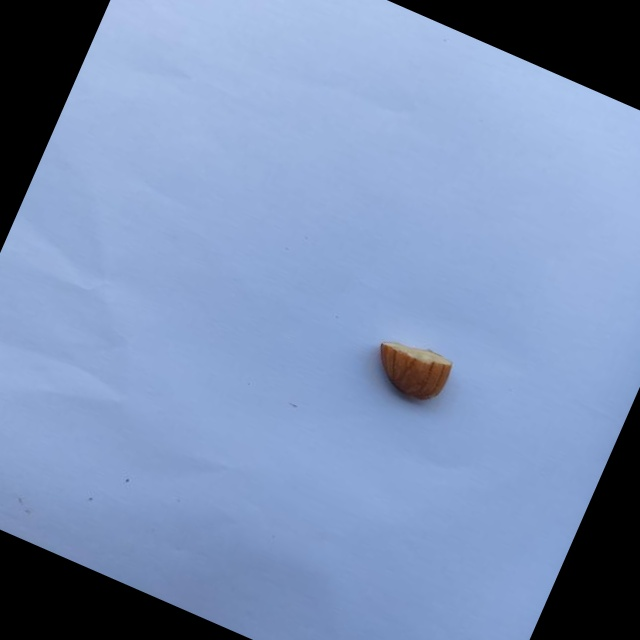grade4: (356, 324, 464, 417)
